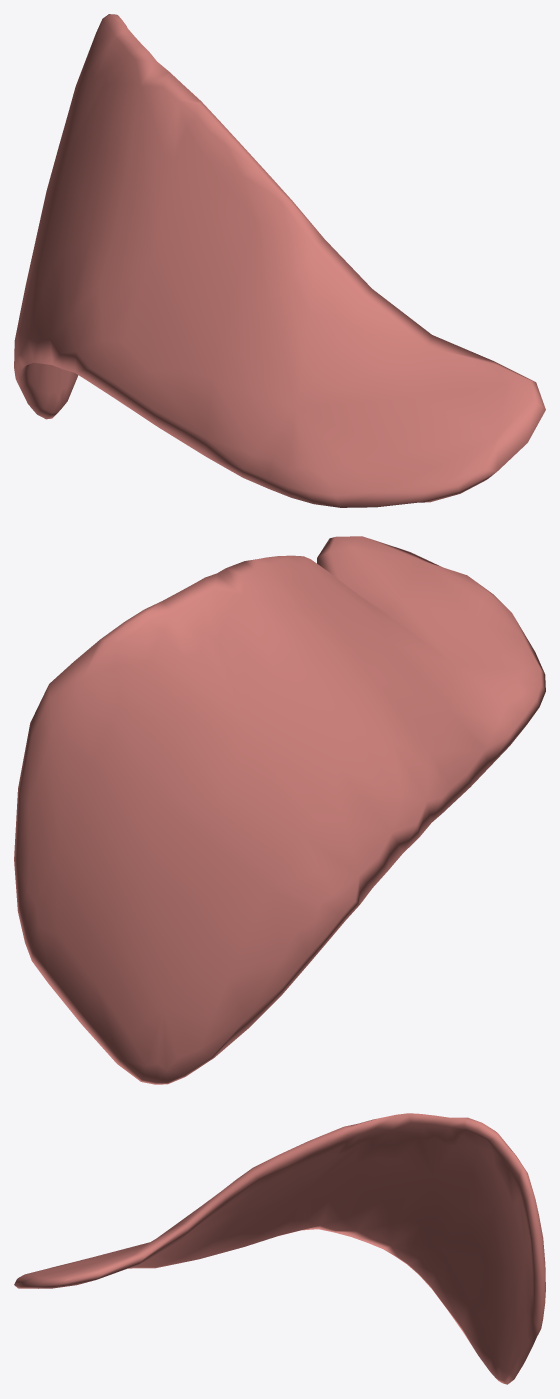
3 renders of one model, top to bottom at view 1: azimuth 30°, elevation 25°; view 2: azimuth 150°, elevation 25°; view 3: azimuth 270°, elevation 25°, orthographic. The views are drawn at different scales.
Parts seen in each view (by area): view 1: ZA_0894023e497bfb4b; view 2: ZA_0894023e497bfb4b; view 3: ZA_0894023e497bfb4b.
Part boxes in pixels (x1,y1,x2,y2): ZA_0894023e497bfb4b: (14,14,545,507); ZA_0894023e497bfb4b: (14,536,545,1084); ZA_0894023e497bfb4b: (14,1113,545,1384).
Size of the model in its own units: 0.0073 by 0.0102 by 0.0177.
